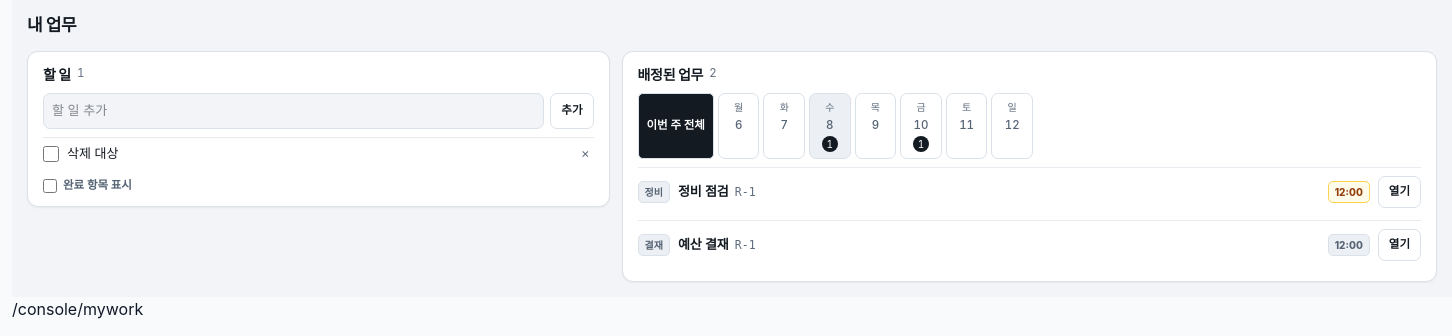
Test case: MyWorkBody › refreshes the current done filter after a deferred delete succeeds
This screenshot has width=1452, height=336.
Click the button "×" at (585, 153), box [577,144,594,163]
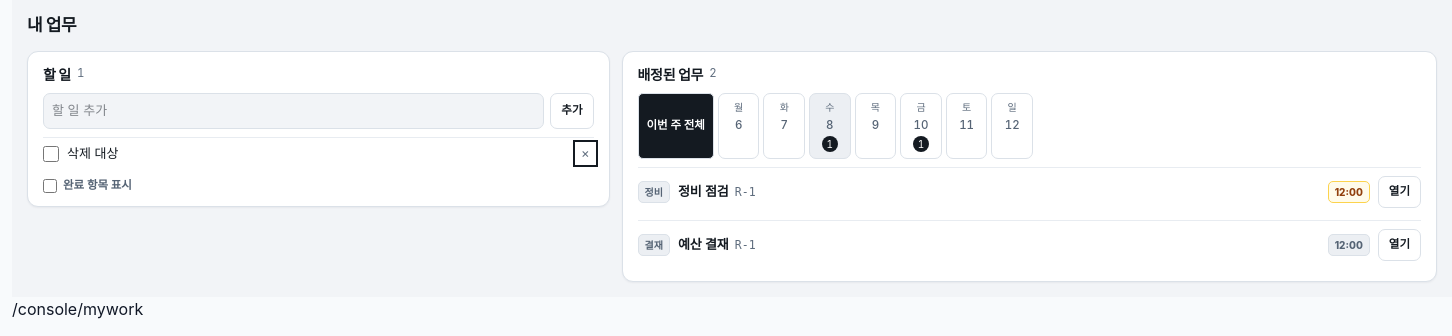
Click the checkbox labelled "완료 항목 표시" at (50, 186), box [43,179,57,193]
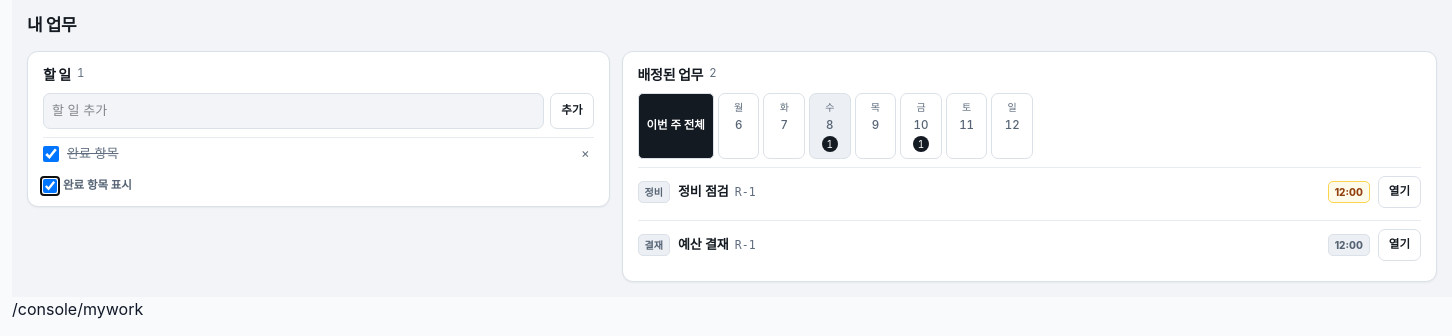
Now the text "삭제 대상" is gone
Now the text "완료 항목" is shown, box [67,144,118,160]
